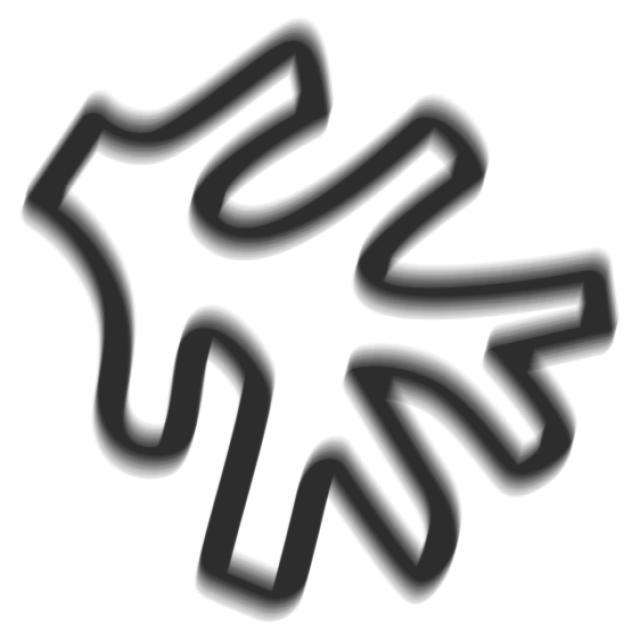coral: (12, 11, 628, 625)
